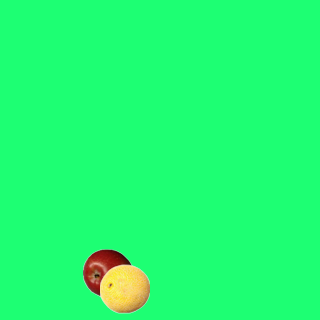Apple Braeburn: (82, 248, 132, 298)
Cantaloupe 1: (99, 263, 149, 313)
